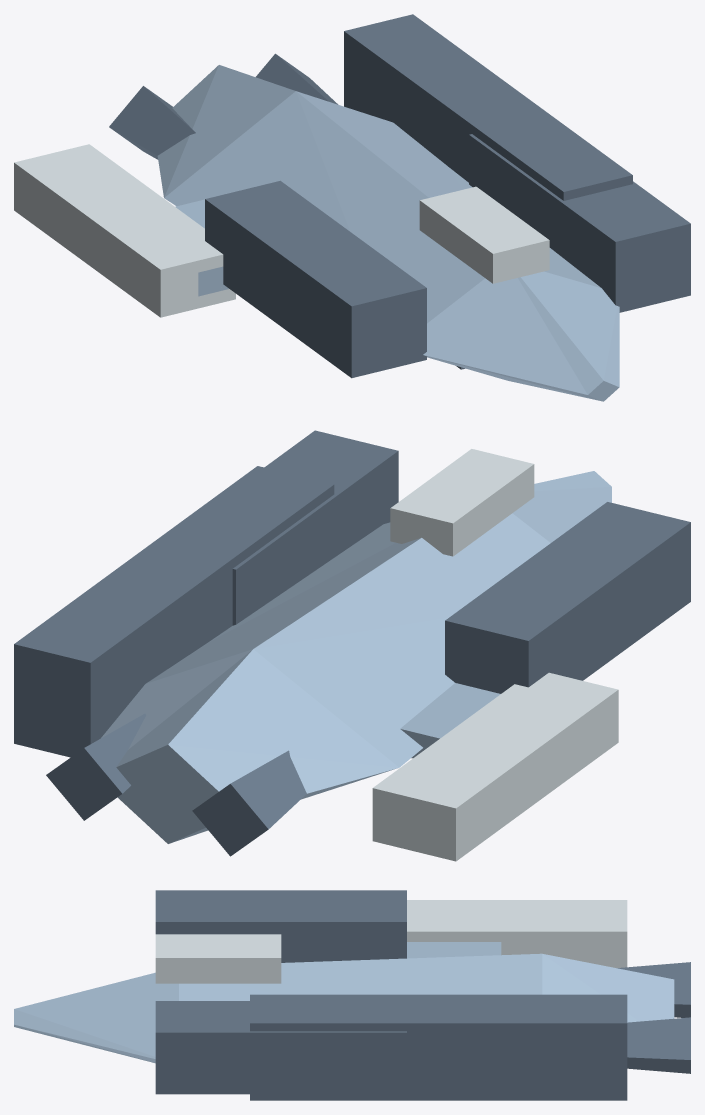
The picture shows the model from 3 angles, top to bottom: view 1: azimuth 30°, elevation 25°; view 2: azimuth 150°, elevation 25°; view 3: azimuth 270°, elevation 25°; orthographic projection. The views are drawn at different scales.
Bounding box in the file's own units: 2.59 × 0.9752 × 4.39.
